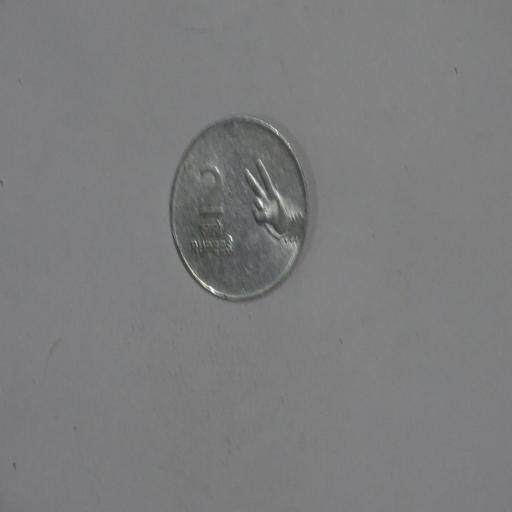rupee2: (166, 114, 311, 304)
